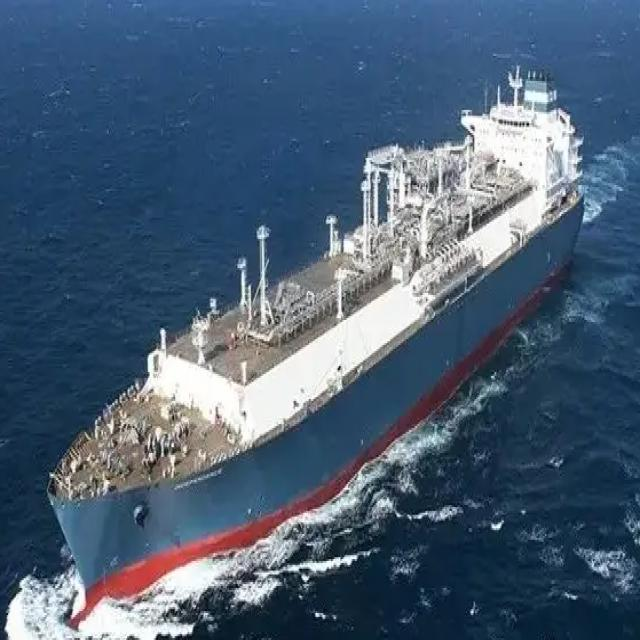navalvessels: (45, 35, 587, 624)
